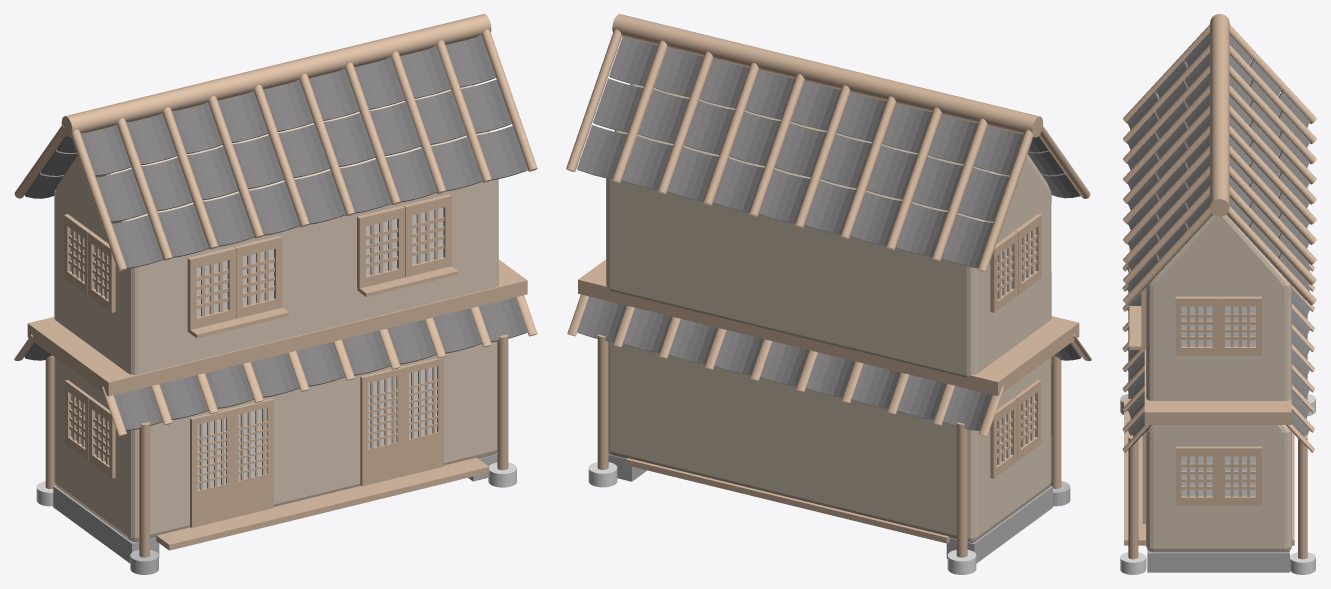
The picture shows the model from 3 angles, left to right: view 1: azimuth 30°, elevation 25°; view 2: azimuth 150°, elevation 25°; view 3: azimuth 270°, elevation 25°; orthographic projection. The views are drawn at different scales.
Visible parts, largest first — view 1: 큐브.078, 큐브.079, 큐브.012, 실린더.044, 큐브.080, 큐브.021, 큐브.008, 실린더.026, 큐브.112, 큐브.108, 큐브.107, 큐브.111 (+21 smaller); view 2: 큐브.079, 큐브.077, 큐브.012, 실린더.044, 큐브.020, 큐브.021, 실린더.026, 실린더.032, 큐브.008, 큐브.009, 큐브.097, 큐브.093 (+3 smaller); view 3: 실린더.044, 큐브.079, 큐브.012, 큐브.078, 큐브.077, 큐브.021, 큐브.009, 실린더.026, 큐브.098, 큐브.102, 큐브.101, 큐브.105 (+14 smaller).
Boxes of the visible parts, x1=… form: 큐브.078: x1=80, y1=34, x2=528, y2=268; 큐브.079: x1=54, y1=85, x2=498, y2=374; 큐브.012: x1=54, y1=302, x2=497, y2=541; 실린더.044: x1=14, y1=14, x2=537, y2=271; 큐브.080: x1=114, y1=297, x2=527, y2=430; 큐브.021: x1=27, y1=259, x2=527, y2=396; 큐브.008: x1=156, y1=457, x2=489, y2=550; 실린더.026: x1=45, y1=334, x2=508, y2=557; 큐브.112: x1=360, y1=367, x2=402, y2=486; 큐브.108: x1=190, y1=408, x2=232, y2=527; 큐브.107: x1=231, y1=398, x2=273, y2=517; 큐브.111: x1=401, y1=357, x2=443, y2=476; 큐브.079: x1=606, y1=48, x2=1051, y2=377; 큐브.077: x1=577, y1=36, x2=1023, y2=268; 큐브.012: x1=608, y1=314, x2=1051, y2=542; 실린더.044: x1=566, y1=14, x2=1090, y2=272; 큐브.020: x1=577, y1=296, x2=991, y2=430; 큐브.021: x1=578, y1=259, x2=1079, y2=395; 실린더.026: x1=597, y1=334, x2=1061, y2=557; 실린더.032: x1=567, y1=294, x2=1004, y2=436; 큐브.008: x1=626, y1=458, x2=949, y2=543; 큐브.009: x1=608, y1=454, x2=1052, y2=563; 큐브.097: x1=990, y1=231, x2=1017, y2=312; 큐브.093: x1=990, y1=397, x2=1017, y2=478; 실린더.044: x1=1123, y1=14, x2=1316, y2=305; 큐브.079: x1=1146, y1=82, x2=1291, y2=400; 큐브.012: x1=1146, y1=360, x2=1291, y2=552; 큐브.078: x1=1127, y1=32, x2=1209, y2=290; 큐브.077: x1=1226, y1=35, x2=1310, y2=299; 큐브.021: x1=1144, y1=350, x2=1291, y2=424; 큐브.009: x1=1147, y1=550, x2=1289, y2=572; 실린더.026: x1=1128, y1=292, x2=1307, y2=559; 큐브.098: x1=1175, y1=446, x2=1218, y2=505; 큐브.102: x1=1175, y1=296, x2=1218, y2=355; 큐브.101: x1=1219, y1=446, x2=1261, y2=505; 큐브.105: x1=1219, y1=296, x2=1261, y2=355.
Size of the model in its own units: 2046 by 1976 by 915.
